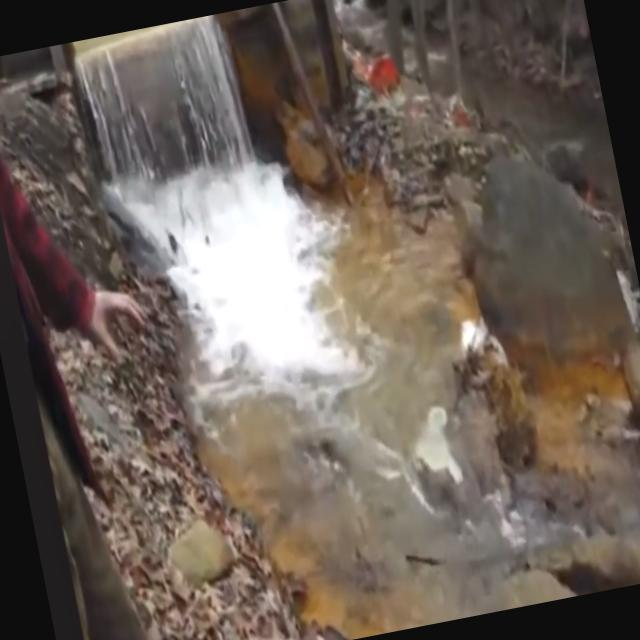yellow_boy: (128, 164, 612, 637)
